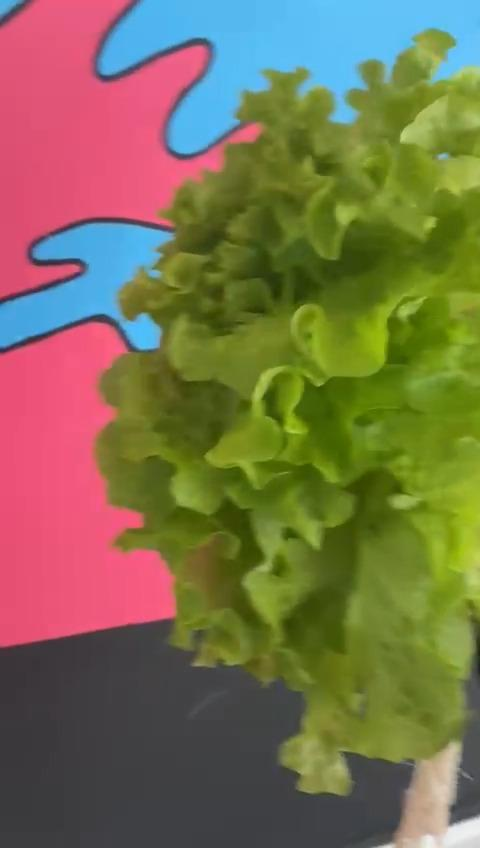Healthy Lettuce: (97, 22, 480, 798)
